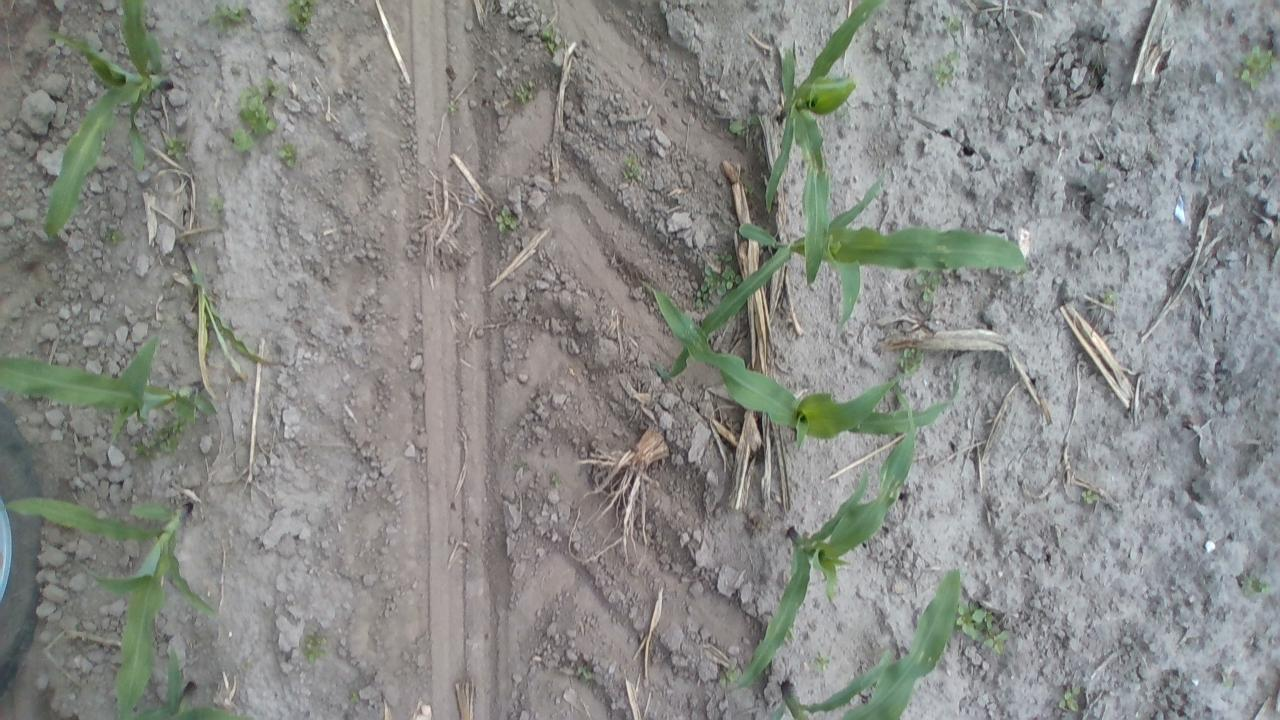Maize: (649, 172, 1042, 394), (643, 224, 971, 461), (718, 379, 944, 700), (0, 488, 226, 718), (32, 0, 177, 245), (756, 1, 884, 269), (762, 568, 968, 720), (0, 328, 216, 452), (181, 250, 275, 380), (146, 649, 244, 720)
Weeds: (229, 76, 281, 154), (955, 601, 1012, 658), (130, 418, 192, 462), (696, 253, 744, 308), (1234, 43, 1276, 93), (280, 0, 321, 40), (208, 2, 253, 35), (930, 51, 964, 93), (1054, 682, 1088, 716), (894, 346, 929, 378), (915, 269, 944, 305), (298, 630, 328, 664), (728, 112, 764, 139), (1240, 568, 1270, 600), (162, 133, 195, 162), (886, 388, 914, 422), (538, 25, 563, 56), (493, 206, 519, 234), (621, 154, 644, 185), (569, 661, 600, 684), (512, 79, 539, 105), (277, 143, 302, 170), (101, 225, 126, 250), (812, 651, 835, 675), (205, 194, 226, 220), (941, 14, 966, 35), (1077, 487, 1104, 506), (1098, 288, 1120, 310), (835, 106, 856, 129), (1260, 112, 1276, 142), (720, 663, 740, 685), (546, 469, 566, 490), (346, 689, 366, 706), (442, 98, 460, 114), (1094, 157, 1108, 175), (1222, 674, 1236, 690)
